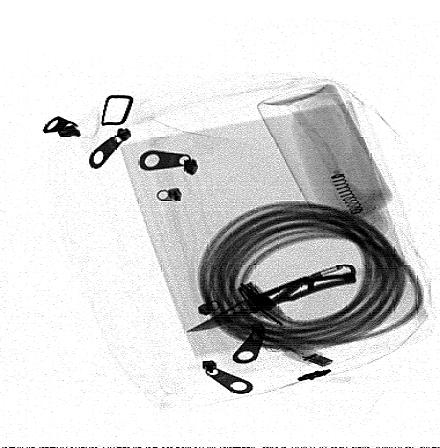Knife: (182, 263, 358, 333)
